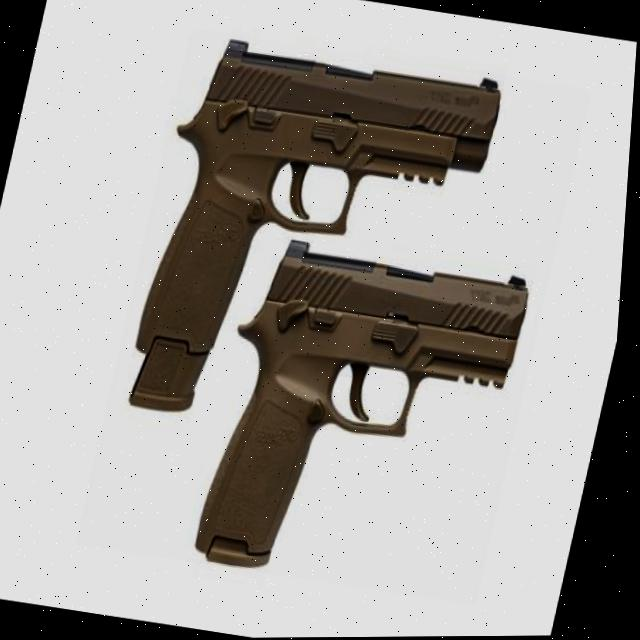pistol: (124, 31, 510, 453), (196, 234, 542, 601)
